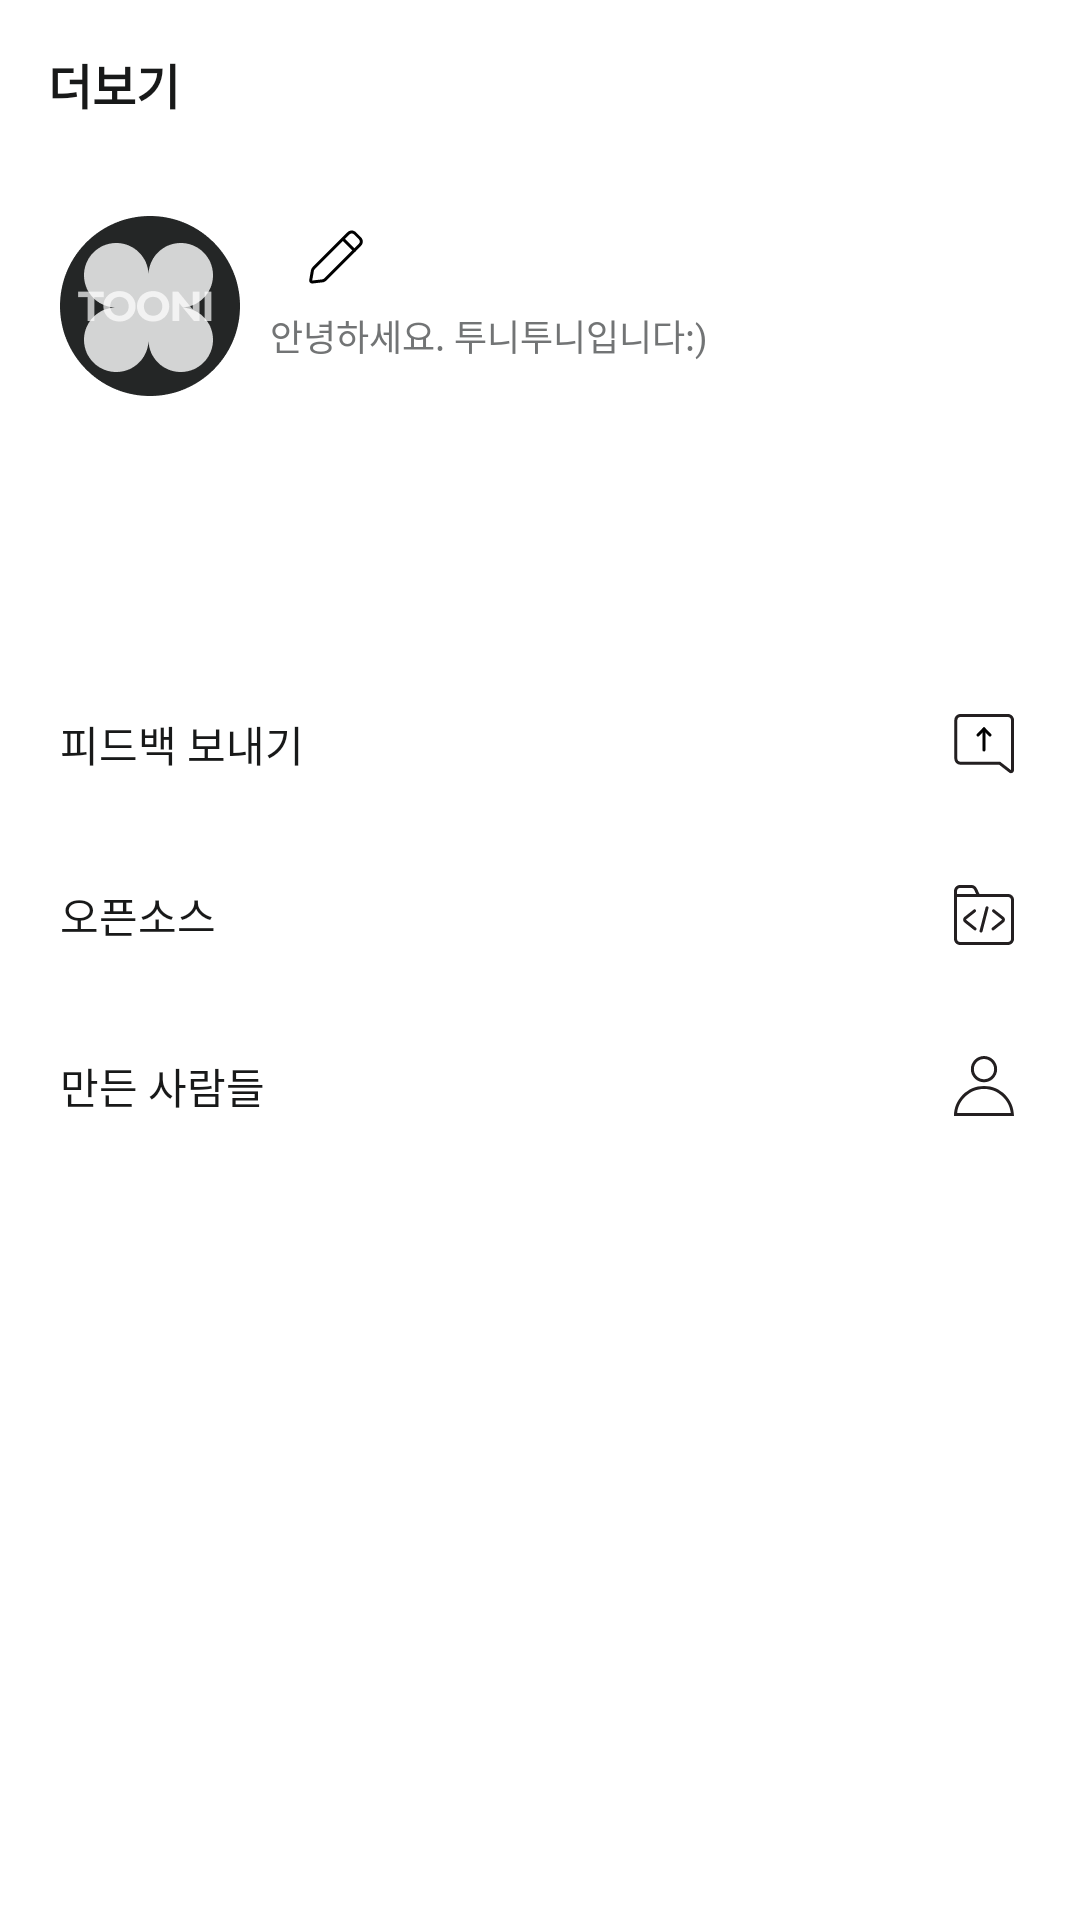

Named icons in this screenshot (1080*1920) and their bounding boxes, bbox=[x1, y1, x2, y2]:
pencil: bbox=[309, 230, 363, 284]
